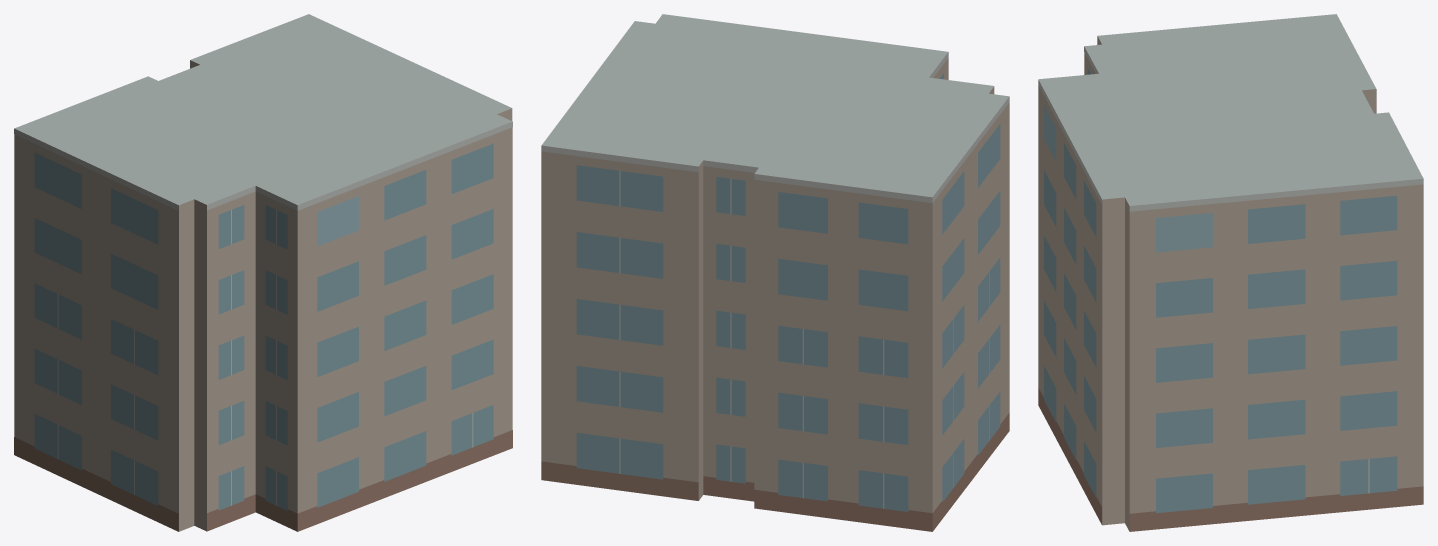
File: survey-upis-32618882.glb
3 views of the same model, side by side, from view 1: azimuth 30°, elevation 25°; view 2: azimuth 150°, elevation 25°; view 3: azimuth 270°, elevation 25° (orthographic). The views are drawn at different scales.
Parts seen in each view (by area): view 1: survey-upis-32618882.tmp; view 2: survey-upis-32618882.tmp; view 3: survey-upis-32618882.tmp.
Boxes of the visible parts, box(x1,y1,x2,y2) form: survey-upis-32618882.tmp: box(14, 14, 512, 531); survey-upis-32618882.tmp: box(541, 14, 1009, 531); survey-upis-32618882.tmp: box(1038, 14, 1423, 531).
Size of the model in its own units: 17.83 by 14.1 by 15.13.
